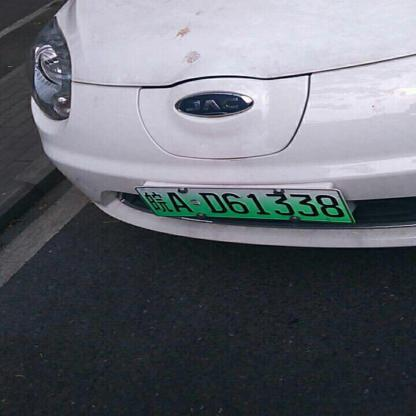lp: (136, 188, 355, 223)
